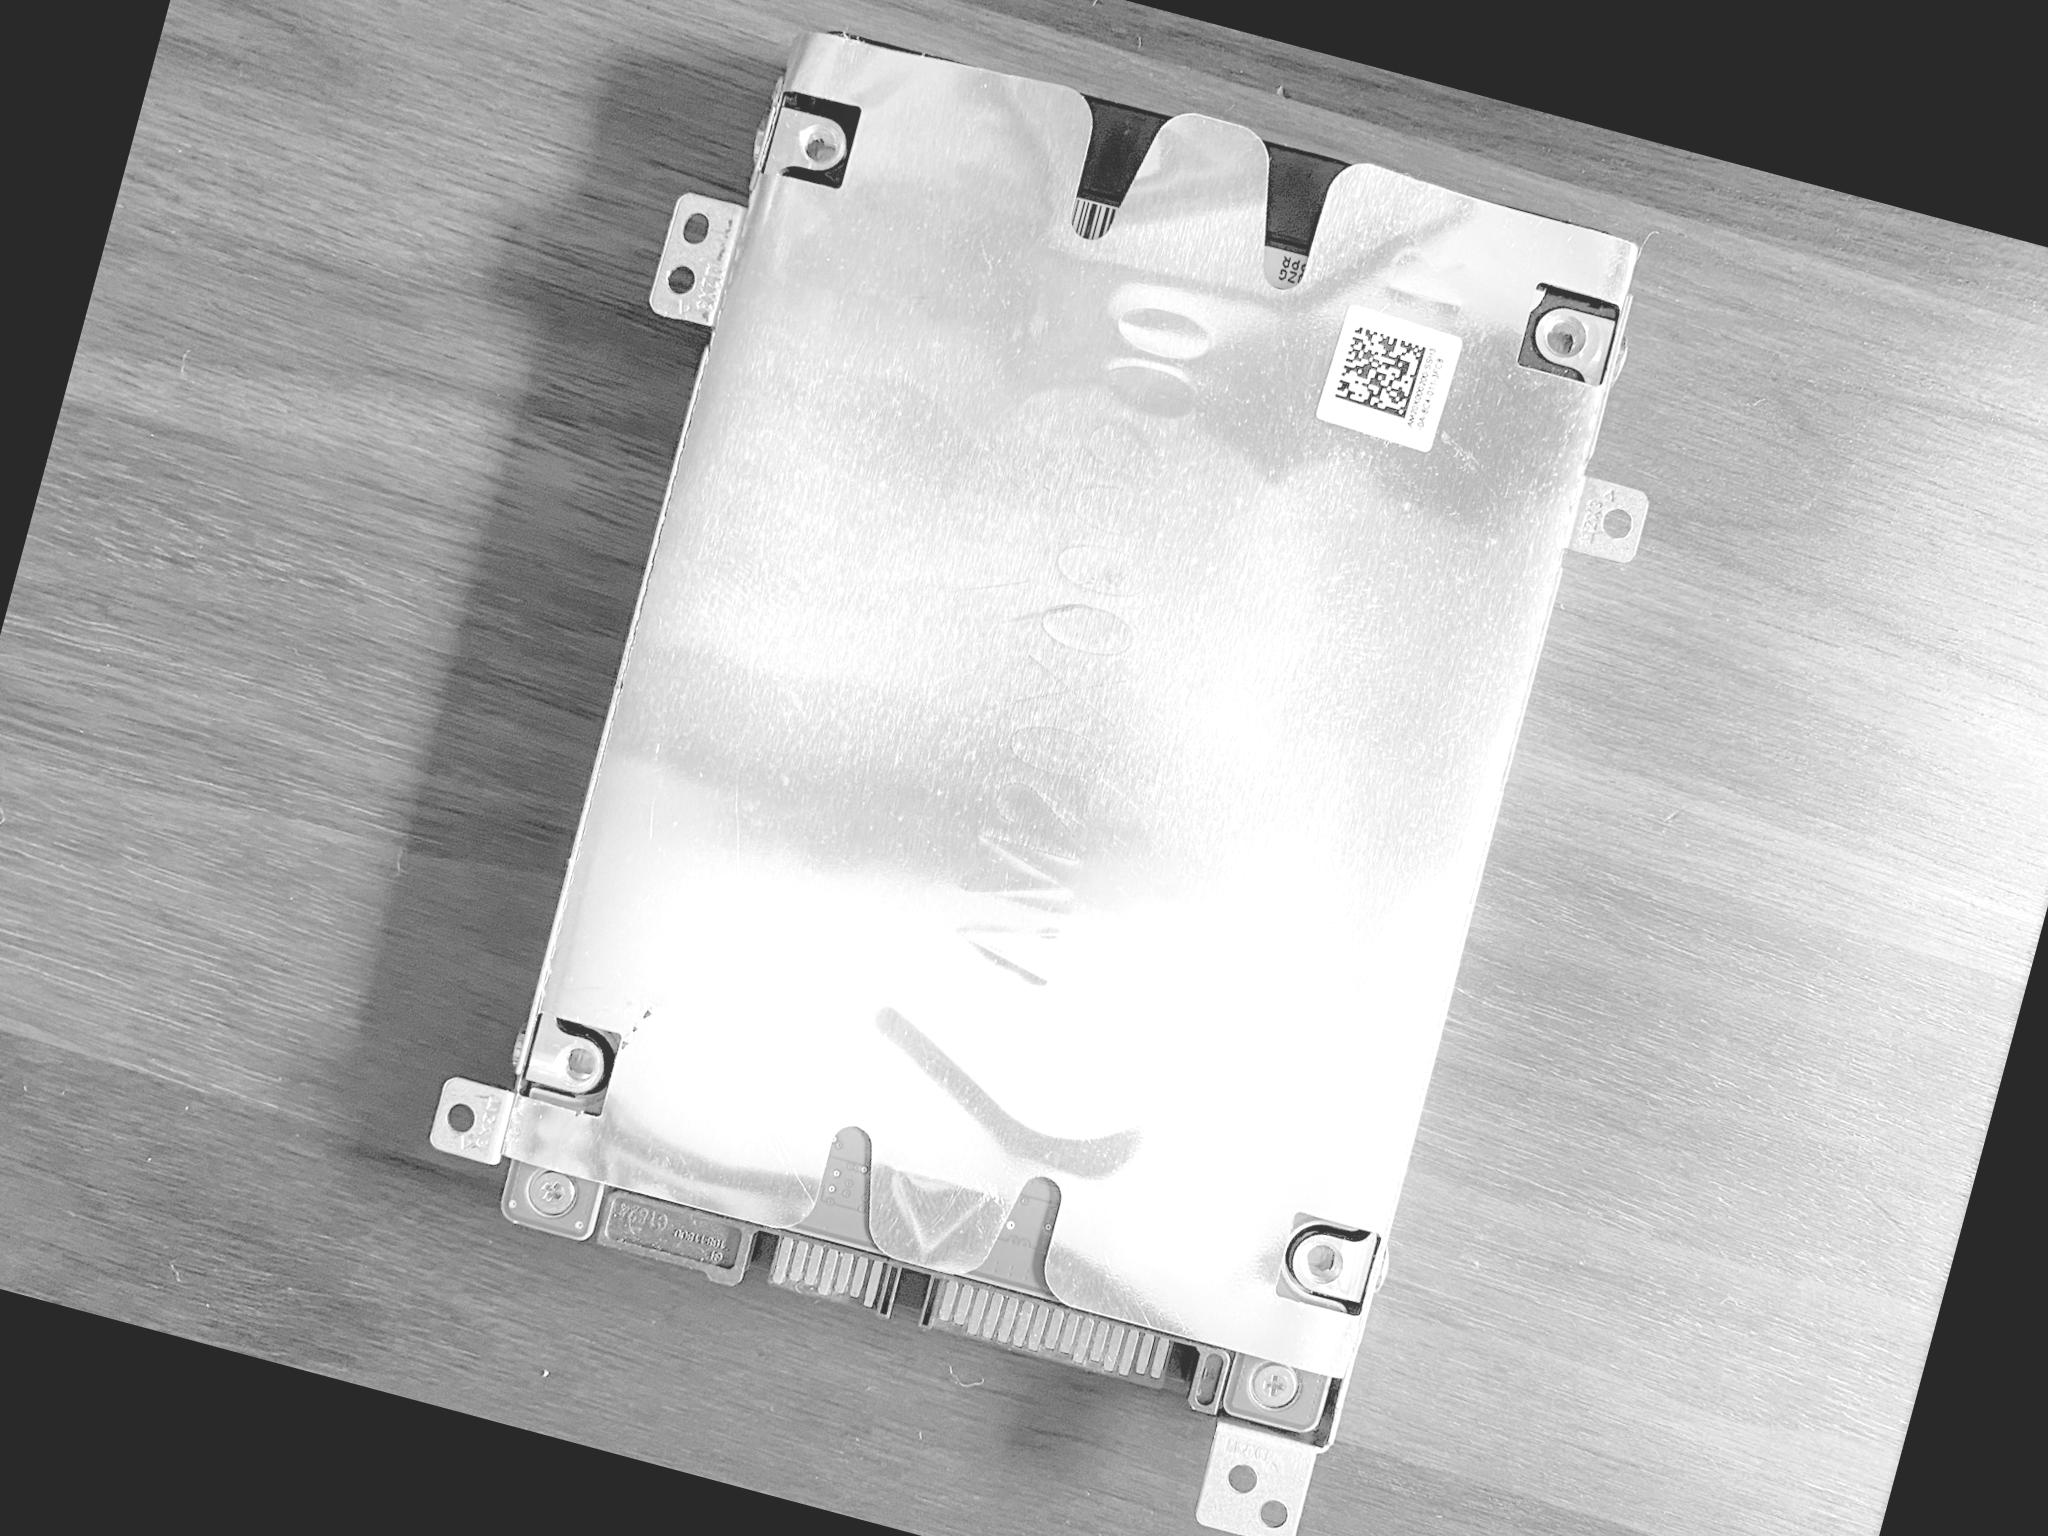philips-PZ: (519, 1165, 579, 1223), (1248, 1357, 1303, 1413)
